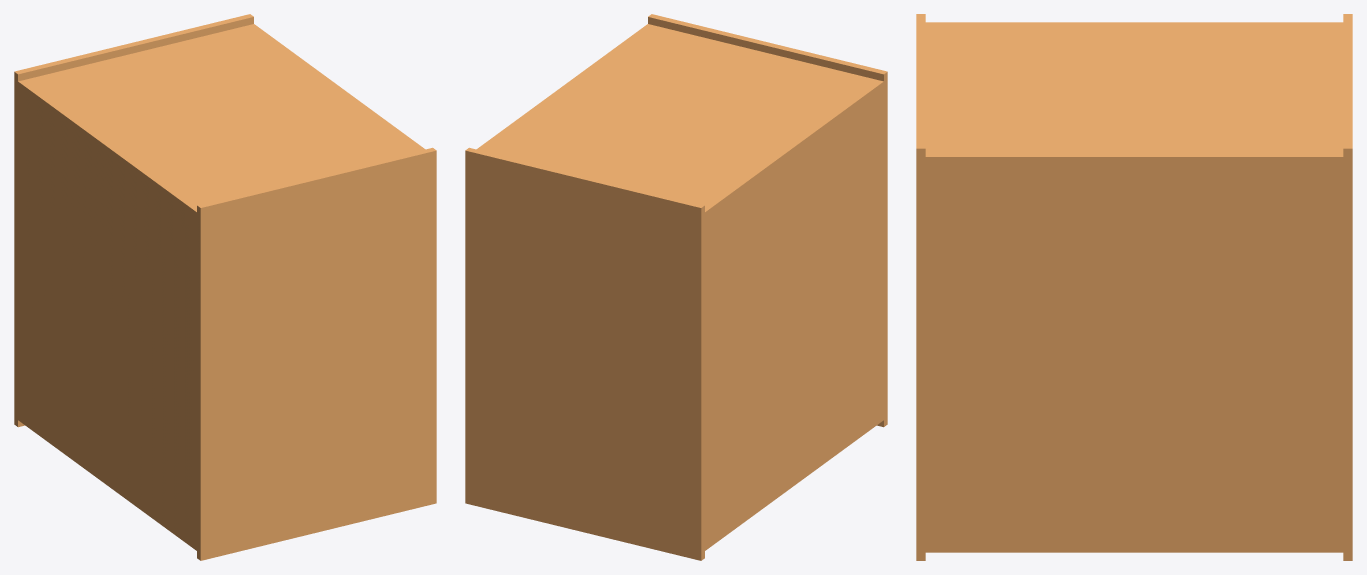
The model's file is Drawer_Light_Brown.dae.
3 renders of one model, left to right at view 1: azimuth 30°, elevation 25°; view 2: azimuth 150°, elevation 25°; view 3: azimuth 270°, elevation 25°, orthographic. The views are drawn at different scales.
Parts seen in each view (by area): view 1: node0; view 2: node0; view 3: node0.
Part boxes in pixels (x1=…): node0: x1=14, y1=14, x2=436, y2=560; node0: x1=465, y1=14, x2=887, y2=560; node0: x1=916, y1=14, x2=1352, y2=560.
Size of the model in its own units: 0.42 by 0.575 by 0.6.
